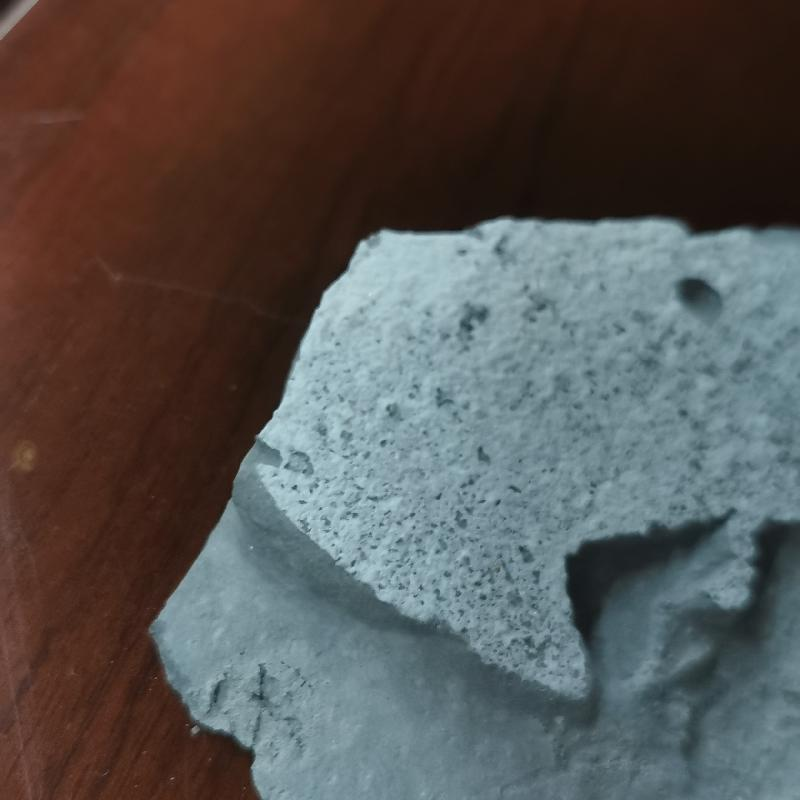tile: (142, 211, 800, 799)
